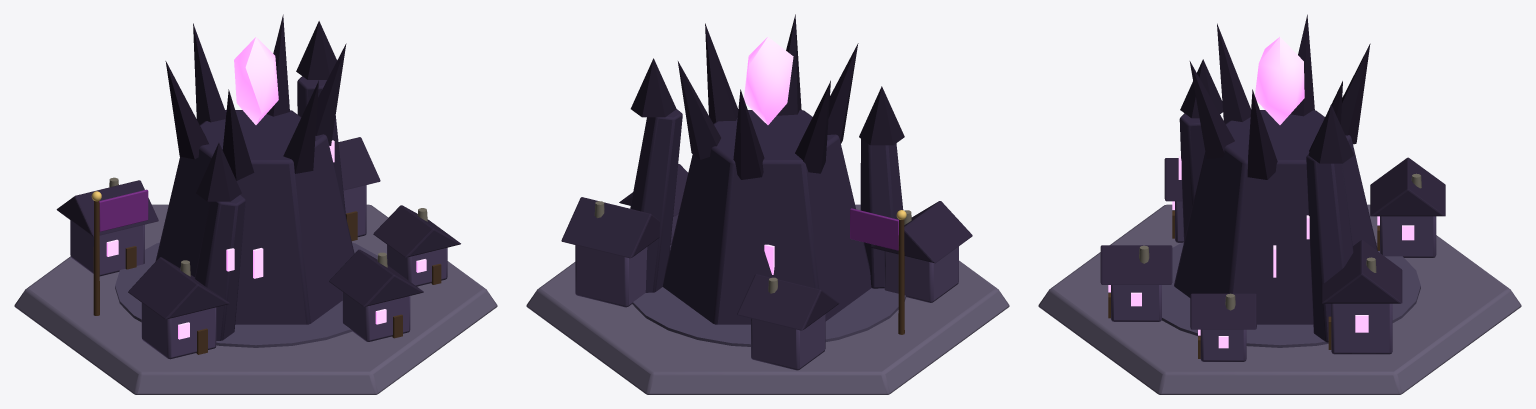
File: district-hostile.glb
The picture shows the model from 3 angles, left to right: view 1: azimuth 30°, elevation 25°; view 2: azimuth 150°, elevation 25°; view 3: azimuth 270°, elevation 25°; orthographic projection.
Parts seen in each view (by area): view 1: district-hostile; view 2: district-hostile; view 3: district-hostile.
Part boxes in pixels (x1,y1,x2,y2): district-hostile: [14, 14, 497, 394]; district-hostile: [526, 14, 1009, 394]; district-hostile: [1038, 14, 1521, 394].
Size of the model in its own units: 1.64 by 1.16 by 1.89.
